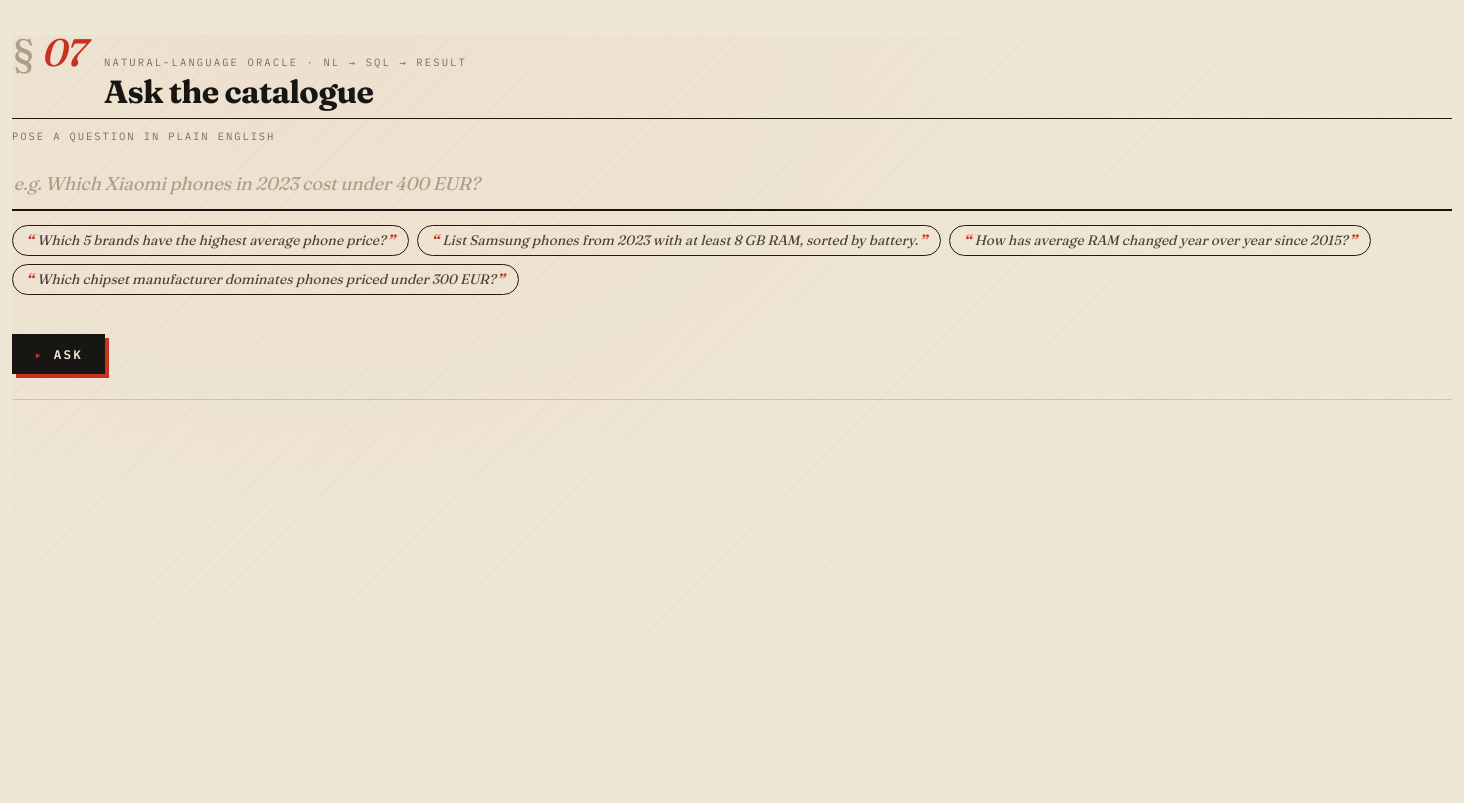
Scenario: AskView › renders the structured pipeline-failure panel with attempt history
Type "attack" into the field with placeholder "e.g. Which Xiaomi phones in 2023 cost under 400 EUR?" at (732, 185), box [12, 158, 1452, 211]
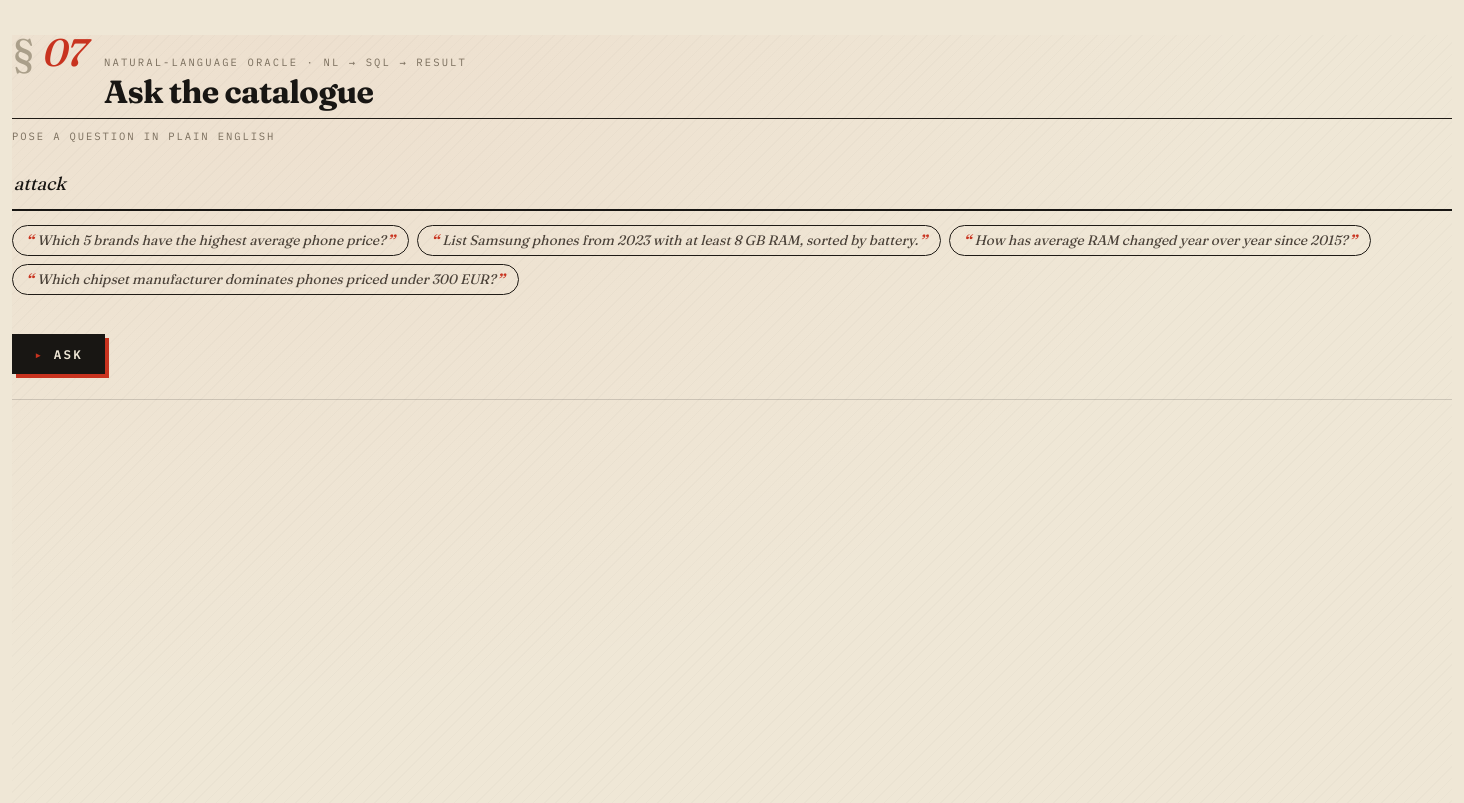
Click the button "Ask" at (59, 354), box [12, 334, 105, 374]
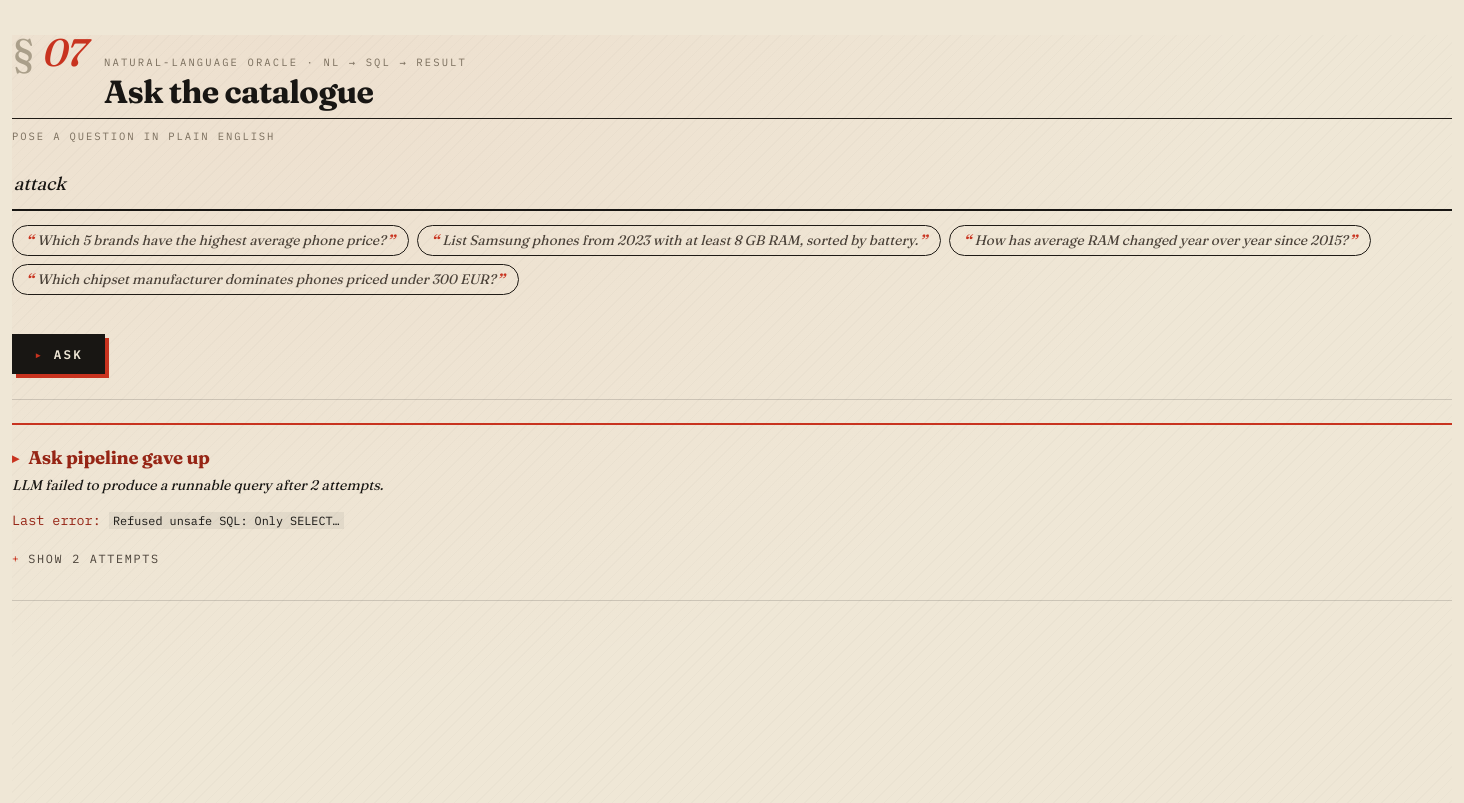
Check: the heading "Ask pipeline gave up" is shown, box [28, 446, 210, 469]
Check: the text "LLM failed to produce a runnable query after 2 attempts." is shown, box [12, 476, 383, 494]
Check: the heading "Show 2 attempts" is shown
# The structured panel renders each attempt's SQL.
Click the heading "Show 2 attempts" at (94, 558), box [28, 551, 160, 566]
(page scrolled)
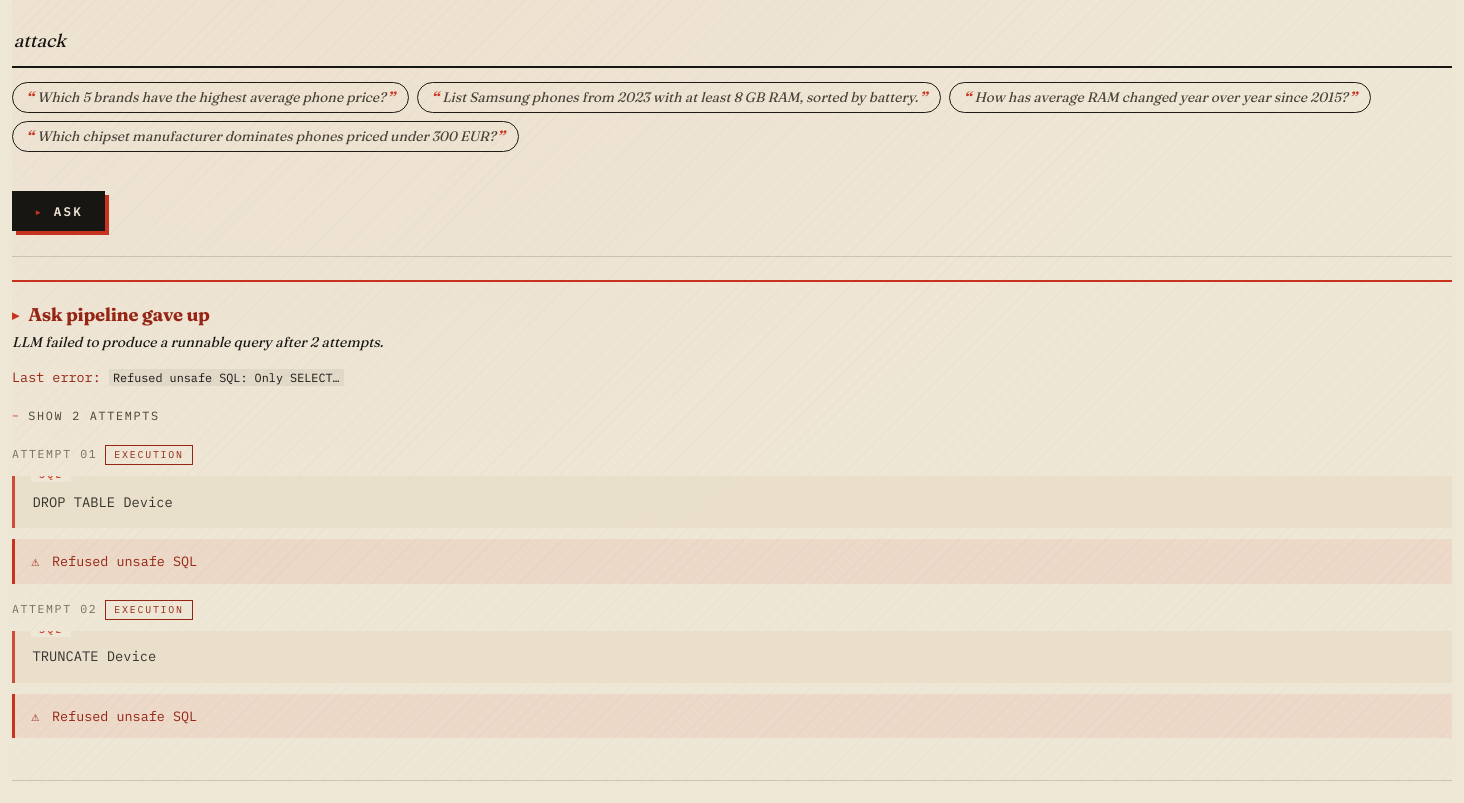
Check: the text "DROP TABLE Device" is shown, box [12, 476, 1452, 528]
Check: the text "TRUNCATE Device" is shown, box [12, 631, 1452, 683]
